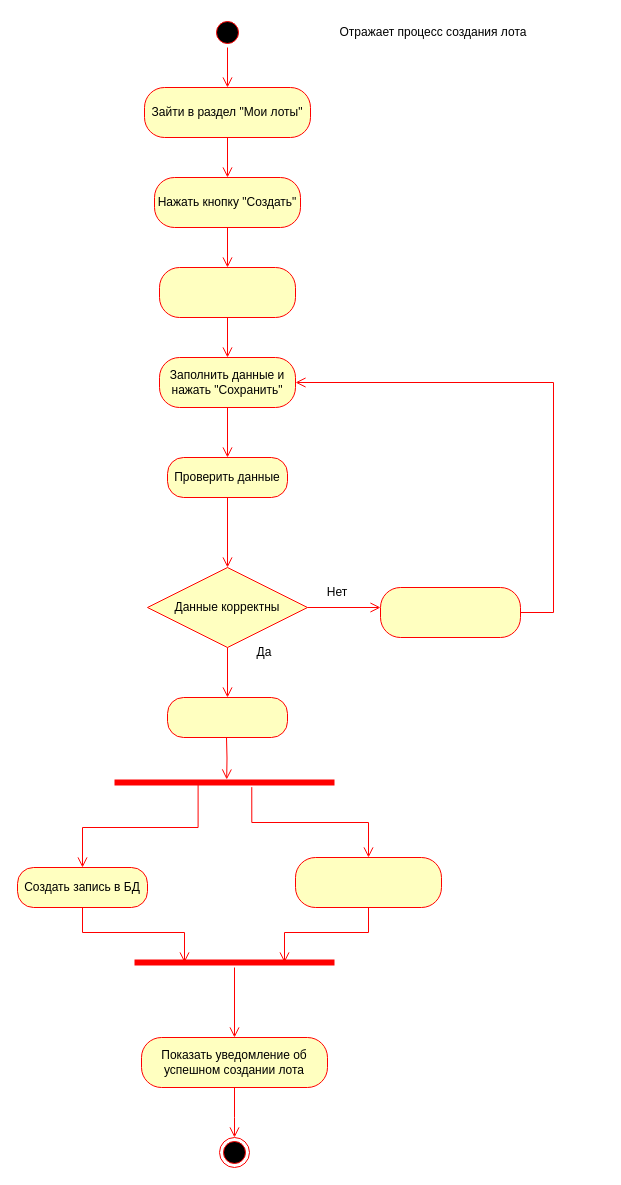
Image size: 621x1185. Some labels were removed from this diagram. Here are the shapes that lost their labels. From the top down, the centre of each, then its label:
(227,292): Показать форму создания
(450,612): Показать сообщение с ошибкой
(227,717): Создать лот
(368,882): Присвоить лоту статус "Активен"
